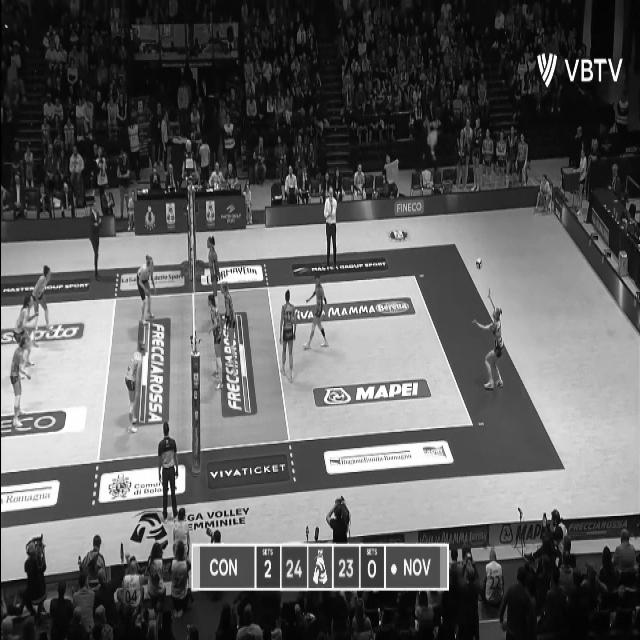volleyball court: (1, 271, 479, 479)
